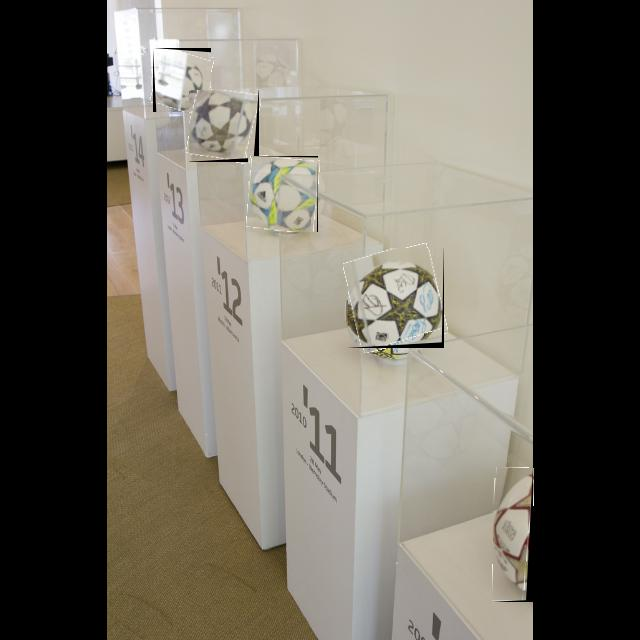Football: (348, 248, 444, 348), (493, 468, 533, 602), (248, 156, 318, 232), (189, 90, 259, 162), (153, 48, 211, 112)
